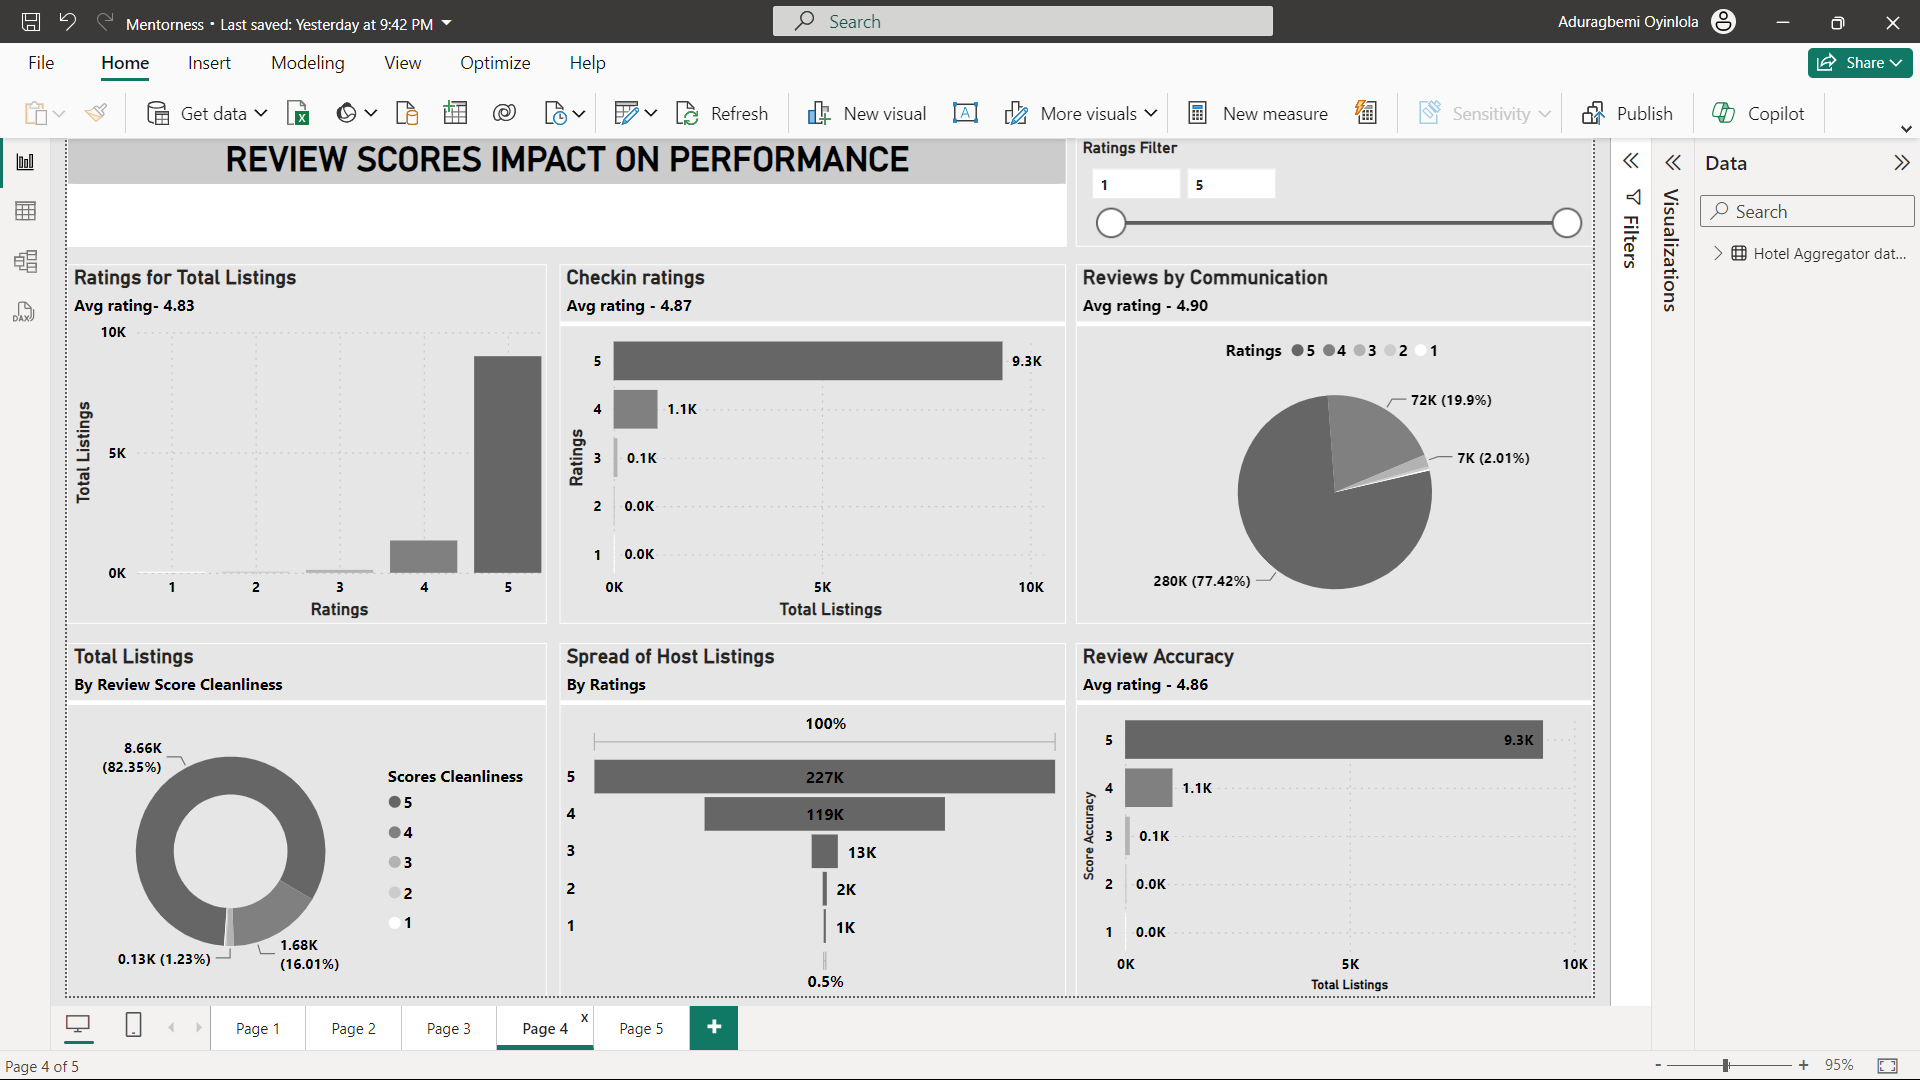

Layout of this report page (visuals, bound fields, positions):
{"tool":"powerbi","page":{"name":"Page 4","canvas":[1280,720],"ordinal":3},"visuals":[{"type":"slicer","title":"Ratings Filter","fields":{"Values":["Hotel Aggregator dataset.review_scores_rating"]},"box":[846.5,0,433.5,91.3],"z":0},{"type":"barChart","title":"Review Accuracy","fields":{"Y":["CountNonNull(Hotel Aggregator dataset.host_total_listings_count)"],"Category":["Hotel Aggregator dataset.review_scores_accuracy"]},"box":[846.5,423.9,433.5,296.6],"z":1000},{"type":"clusteredBarChart","title":"Checkin ratings","fields":{"Category":["Hotel Aggregator dataset.review_scores_checkin"],"Y":["CountNonNull(Hotel Aggregator dataset.host_total_listings_count)"]},"box":[413.1,105.7,425.1,301.4],"z":2000},{"type":"donutChart","title":"Total Listings","fields":{"Category":["Hotel Aggregator dataset.review_scores_cleanliness"],"Y":["CountNonNull(Hotel Aggregator dataset.host_total_listings_count)"]},"box":[0,423.9,402.3,296.6],"z":3000},{"type":"pieChart","title":"Reviews by Communication","fields":{"Category":["Hotel Aggregator dataset.review_scores_communication"],"Y":["Sum(Hotel Aggregator dataset.host_total_listings_count)"]},"box":[846.5,105.7,433.5,301.4],"z":4000},{"type":"funnel","title":"Spread of Host Listings","fields":{"Category":["Hotel Aggregator dataset.review_scores_value"],"Y":["Sum(Hotel Aggregator dataset.host_total_listings_count)"]},"box":[413.1,423.9,425.1,296.6],"z":5000},{"type":"columnChart","title":"Ratings for Total Listings","fields":{"Y":["CountNonNull(Hotel Aggregator dataset.host_total_listings_count)"],"Category":["Hotel Aggregator dataset.review_scores_rating"]},"box":[0,105.7,402.3,301.4],"z":6000},{"type":"textbox","title":"REVIEW SCORES IMPACT ON PERFORMANCE","box":[0,0,838.1,91.3],"z":7000}]}

Visuals, with their boxes on the page's 1280x720 design canvas (x1, y1, x2, y2). These are canvas units, not pixel positions in the 1920x1080 screenshot, which may show the page scaled, cropped or inside an application window:
"Ratings Filter" slicer: region(846, 0, 1280, 91)
"Review Accuracy" barChart: region(846, 424, 1280, 720)
"Checkin ratings" clusteredBarChart: region(413, 106, 838, 407)
"Total Listings" donutChart: region(0, 424, 402, 720)
"Reviews by Communication" pieChart: region(846, 106, 1280, 407)
"Spread of Host Listings" funnel: region(413, 424, 838, 720)
"Ratings for Total Listings" columnChart: region(0, 106, 402, 407)
"REVIEW SCORES IMPACT ON PERFORMANCE" textbox: region(0, 0, 838, 91)
